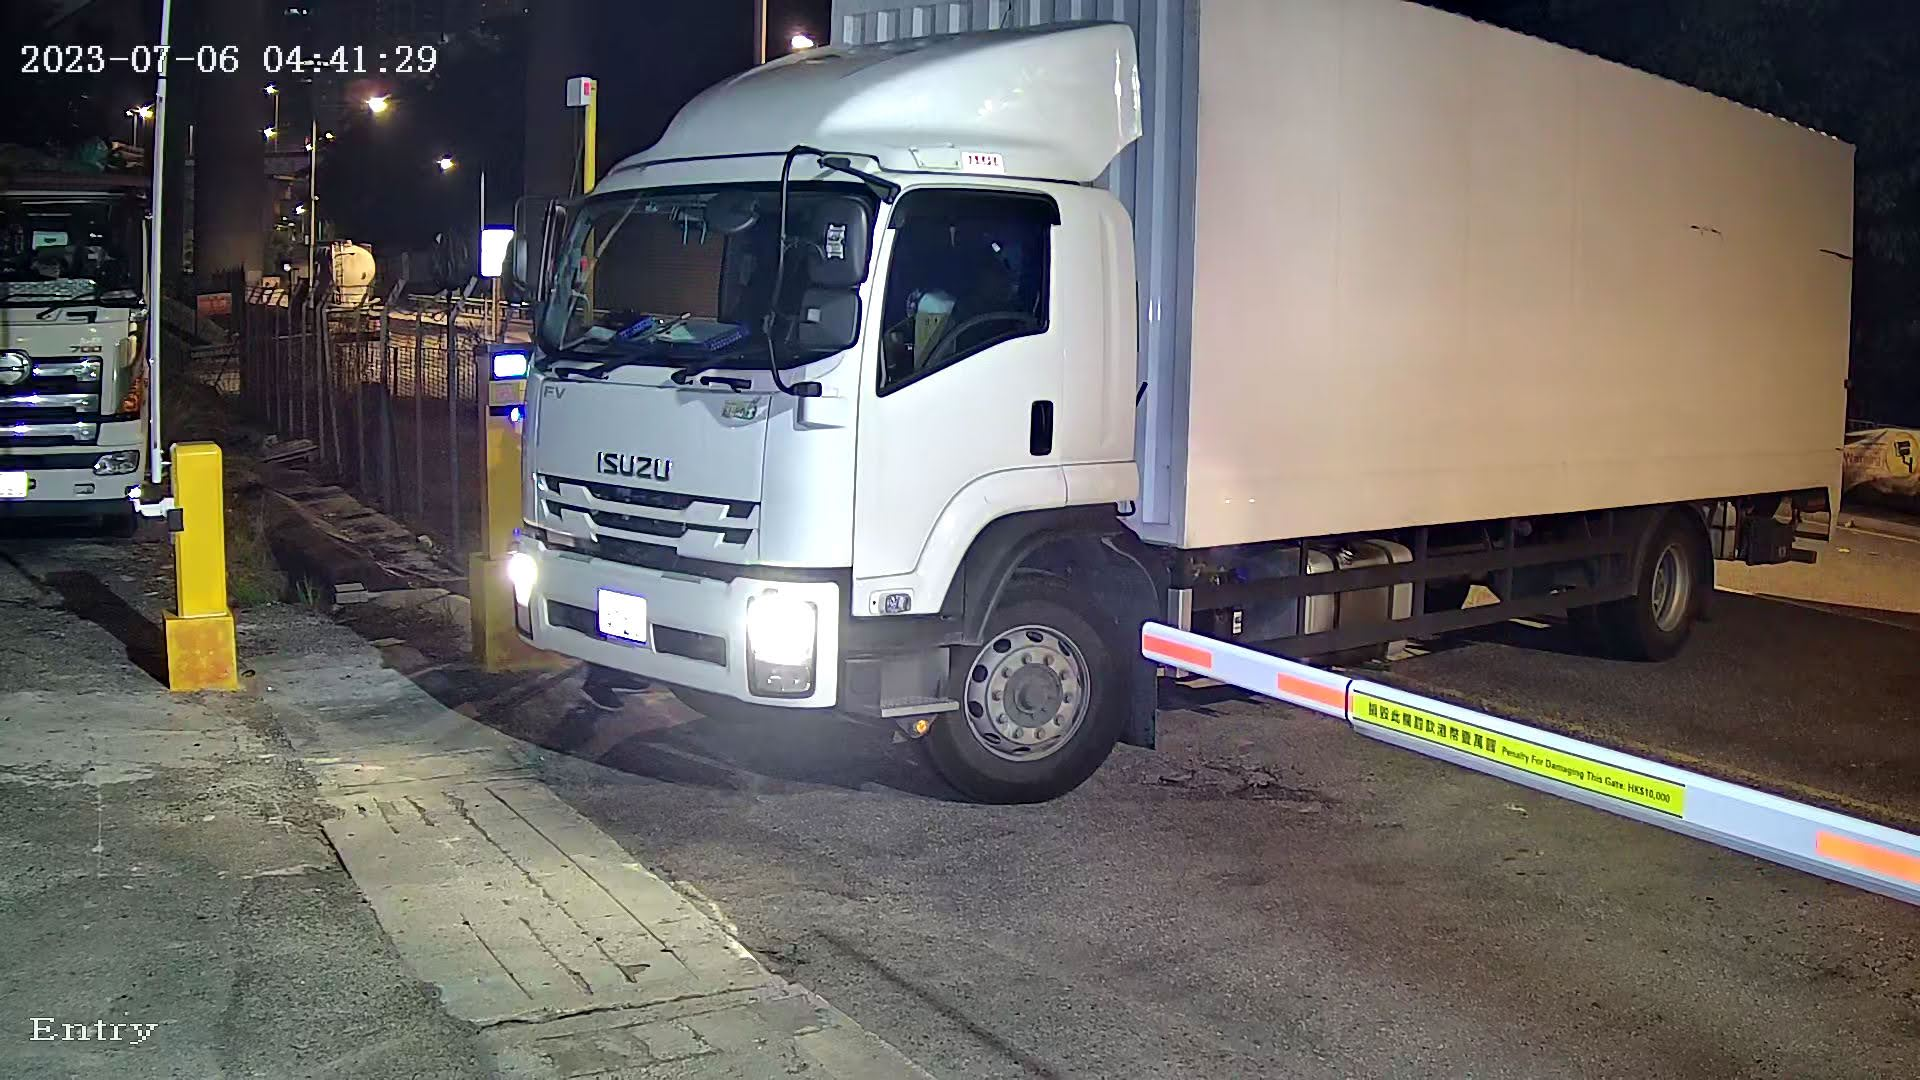truck_large: (458, 1, 1845, 804)
